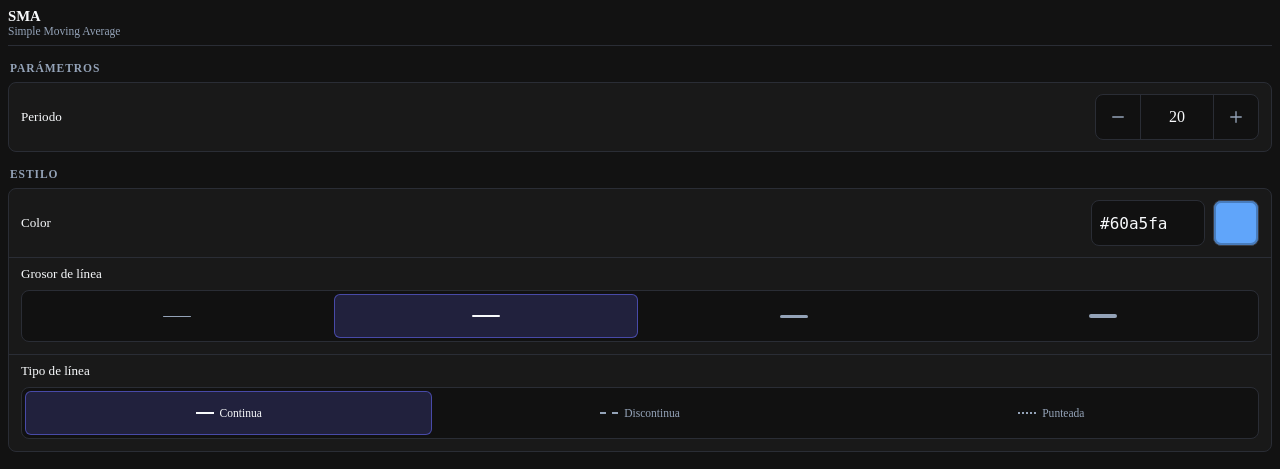
Scenario: IndicatorSettingsForm › deja escribir valores intermedios y limita al confirmar con blur
Step 1. Replace the text in the field labelled "Periodo" with "1" → (1177, 117), box [1140,95,1214,139]
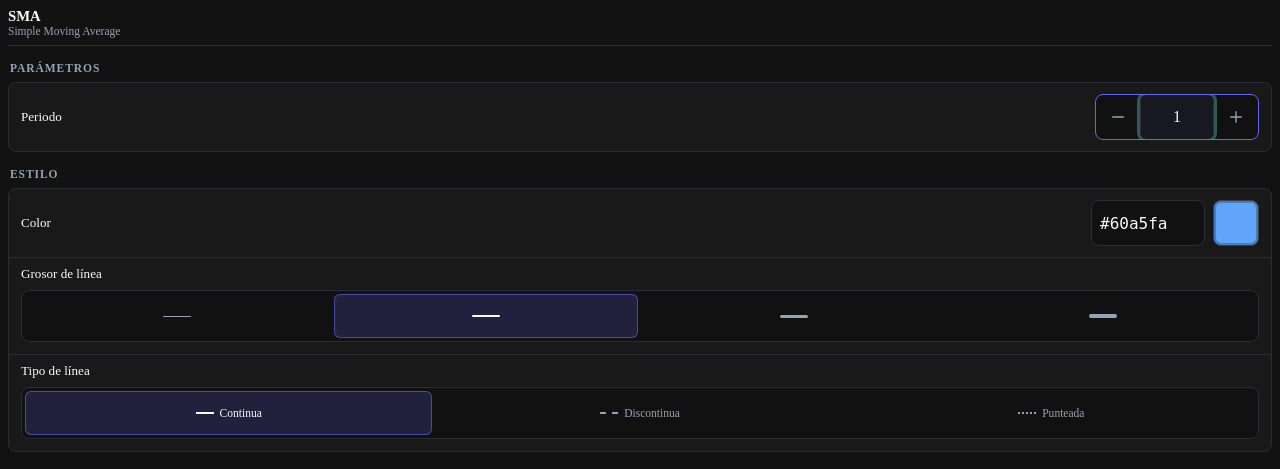
Step 2. Leave the field labelled "Periodo", box [1140,95,1214,139]
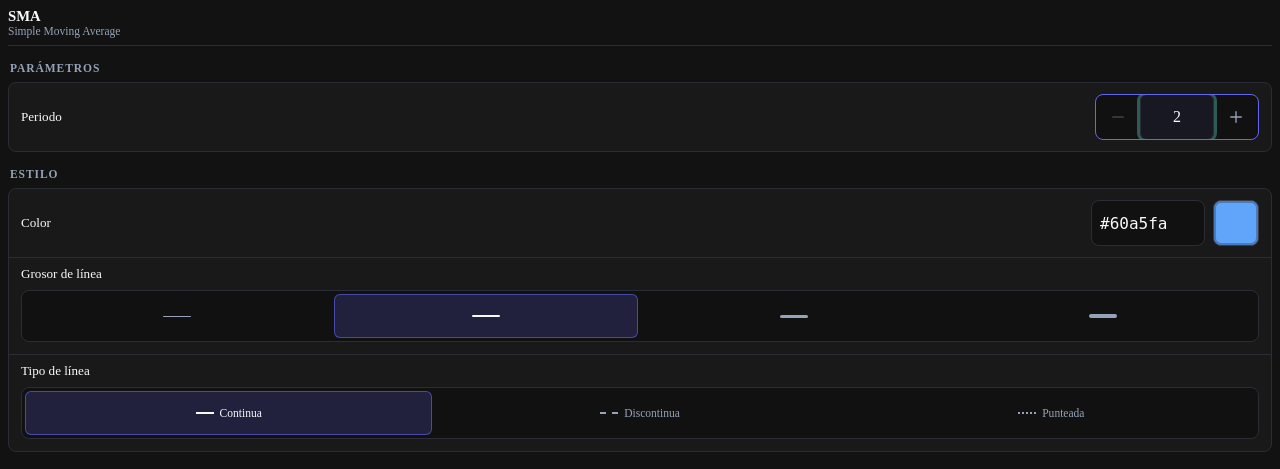
Expected: the field labelled "Periodo" holds "2", [1140,95,1214,139]
